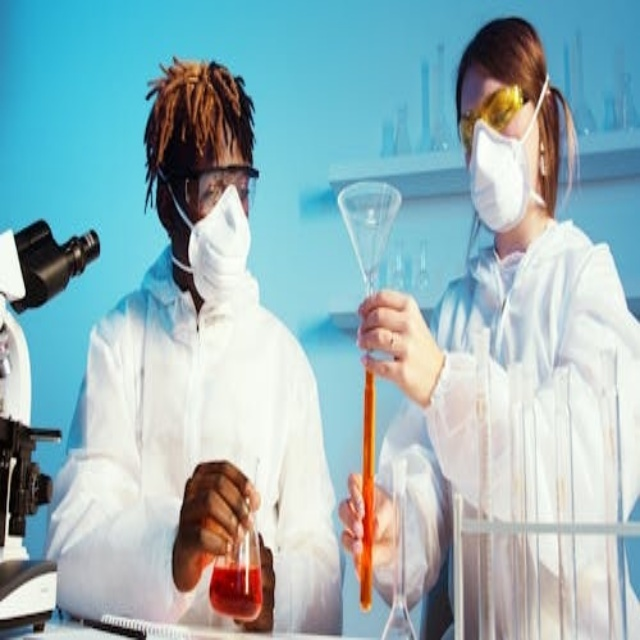Gafas: (458, 82, 538, 154), (164, 163, 260, 217)
Mascara: (468, 76, 548, 233), (172, 180, 252, 306)
Sin_guantes: (175, 459, 262, 587), (355, 289, 442, 411), (340, 465, 401, 578), (236, 533, 278, 634)
